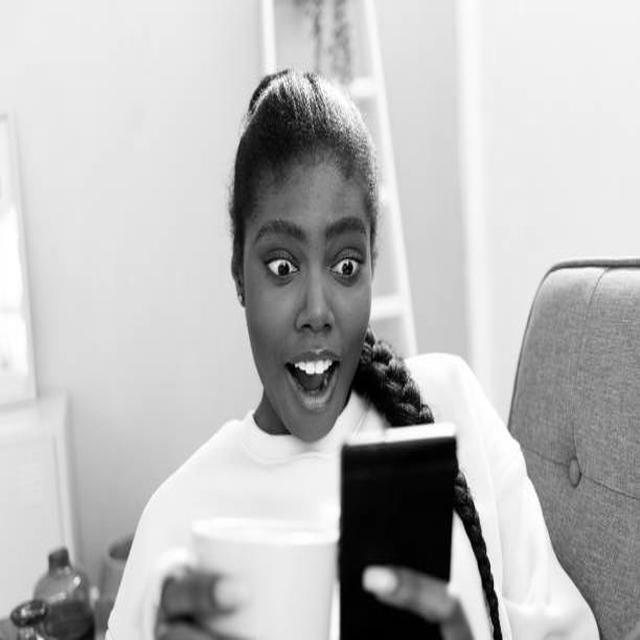Surprised: (243, 155, 371, 441)
